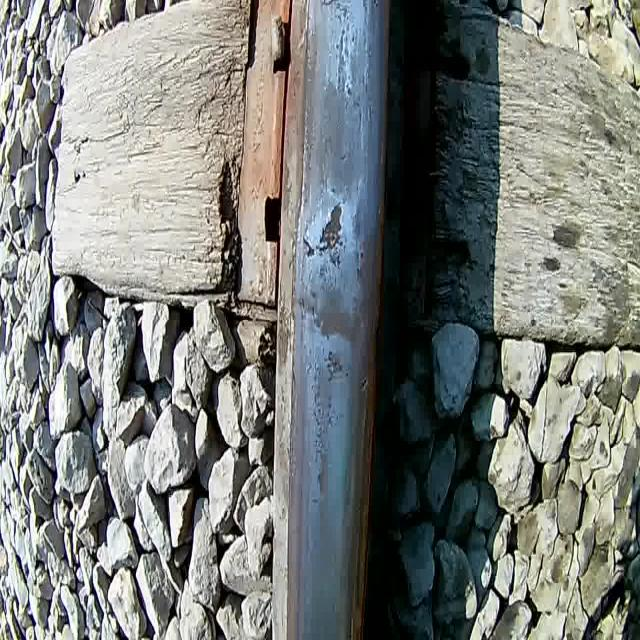Spallings: (315, 64, 373, 201), (298, 196, 351, 274), (320, 344, 348, 384)
Squats: (294, 277, 371, 348)
